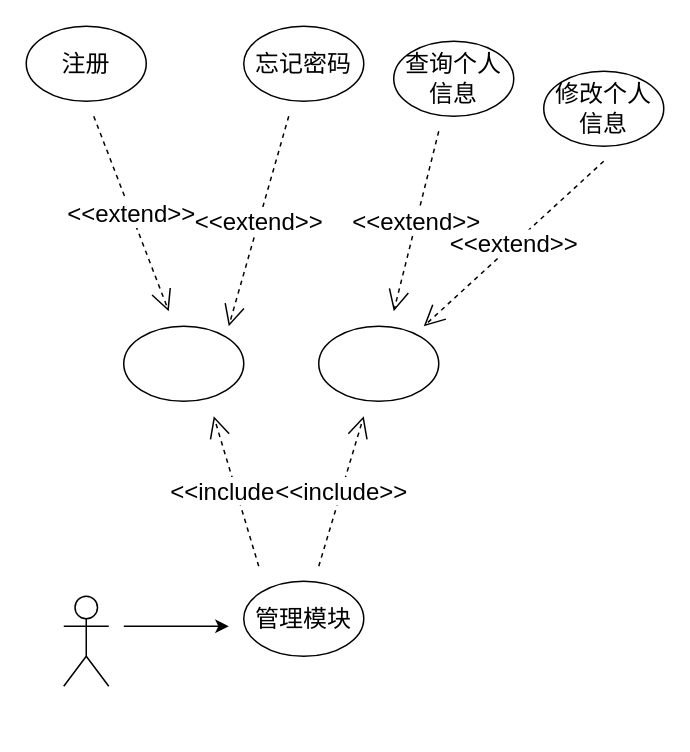
Image size: 690x752. Some labels were removed from this diagram. Here are the shapes that lost their labels. From the top down, the centre of each, then its label:
At pixel 183 363: "登录".
At pixel 378 363: "基本信息管理".
At pixel 85 640: "管理员".
